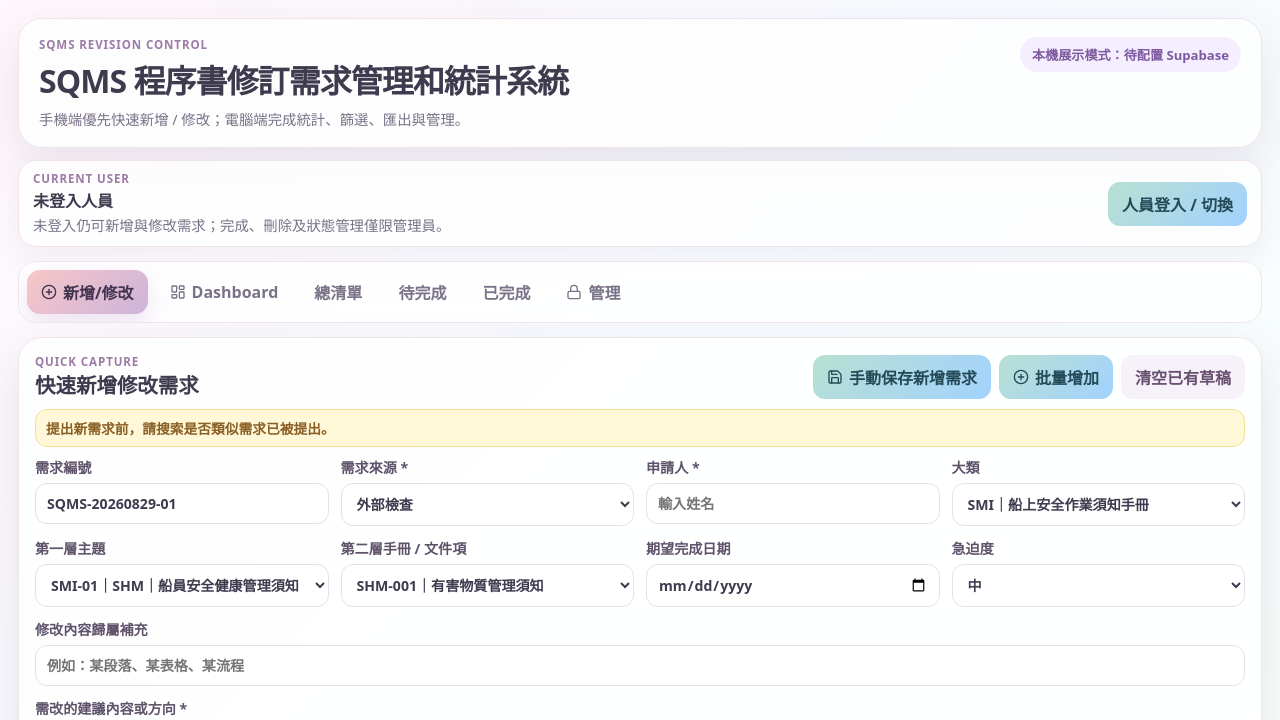
Scenario: request manual save flow › cascades category and topic changes into the first matching manual item
The image size is (1280, 720).
Expected: the dropdown labelled "第二層手冊 / 文件項" shows "SHM-001｜有害物質管理須知", x1=340 y1=564 x2=634 y2=607
Select "SMI-02｜SOI｜安全操作落實須知" in the dropdown labelled "第一層主題" at (182, 586), box x1=35 y1=564 x2=328 y2=607
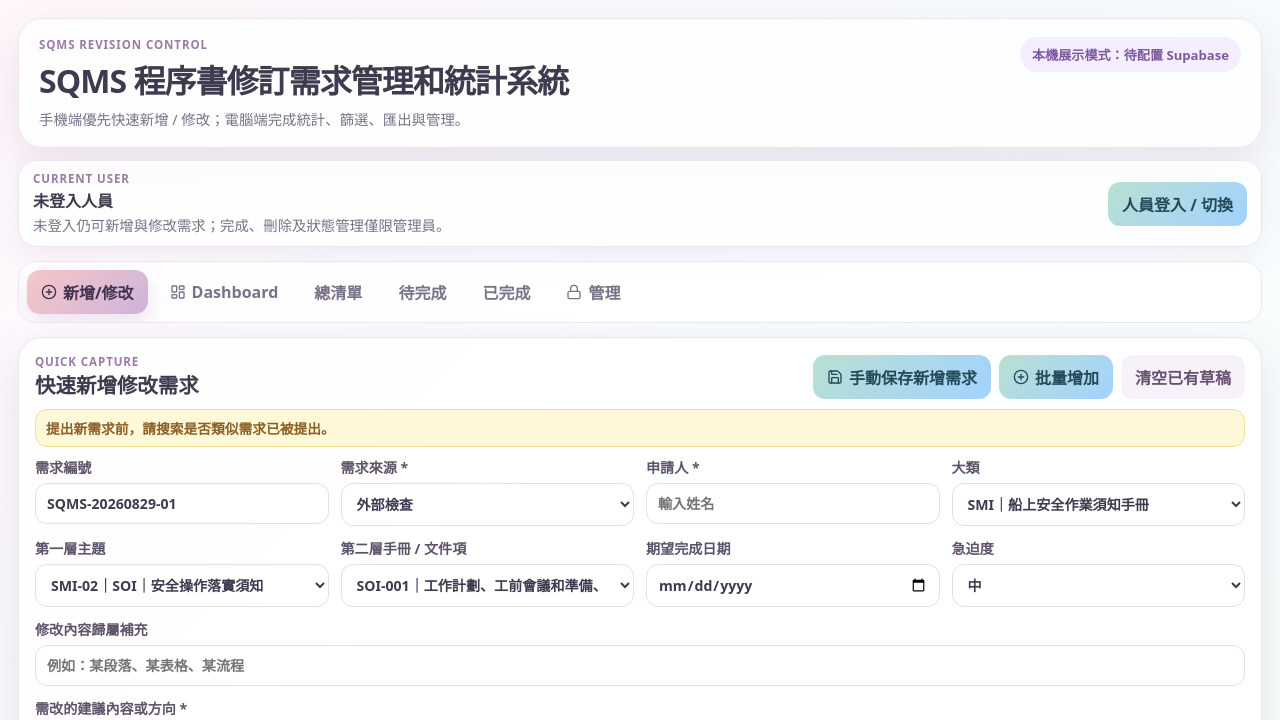
Result: the dropdown labelled "第二層手冊 / 文件項" shows "SOI-001｜工作計劃、工前會議和準備、工作監控管理須知" at x1=340 y1=564 x2=634 y2=607
Select "SMP｜安全管理程序手冊" in the dropdown labelled "大類" at (1098, 504), box x1=952 y1=483 x2=1245 y2=526
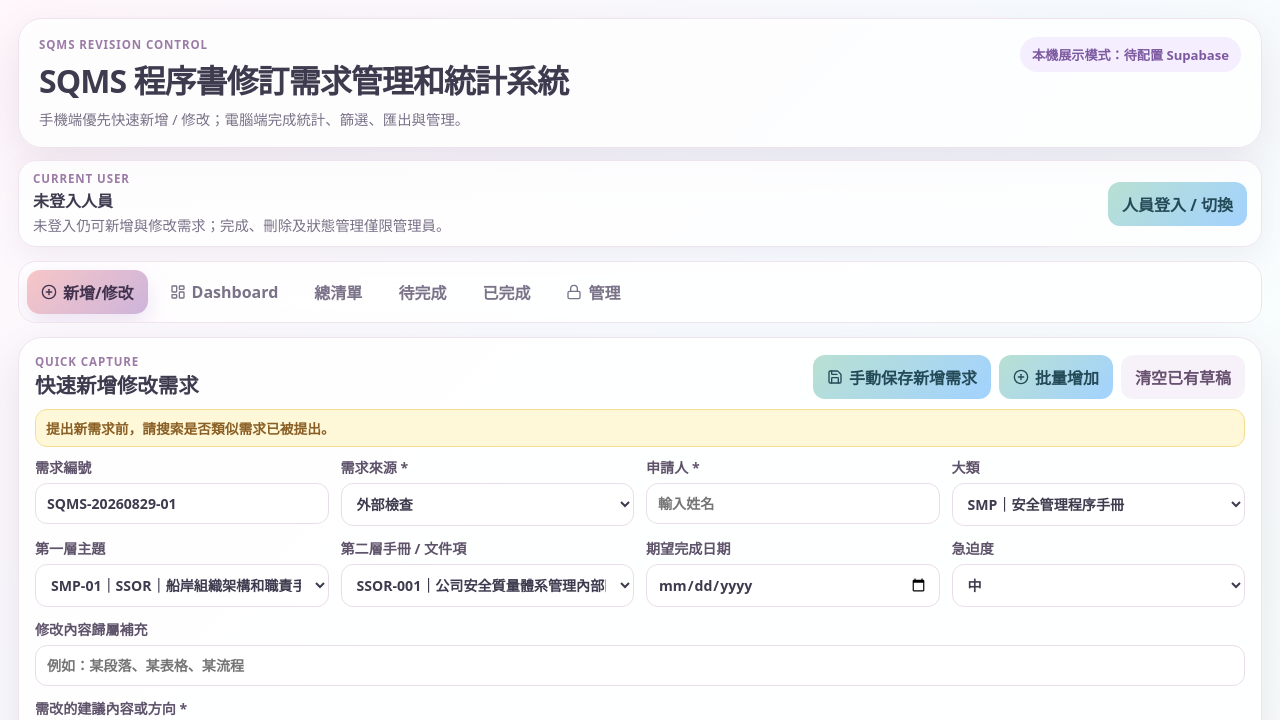
Result: the dropdown labelled "第二層手冊 / 文件項" shows "SSOR-001｜公司安全質量體系管理內部門架構和要求" at x1=340 y1=564 x2=634 y2=607
Select "SMP-13｜SMP｜國際標准化組織管理" in the dropdown labelled "第一層主題" at (182, 586), box x1=35 y1=564 x2=328 y2=607
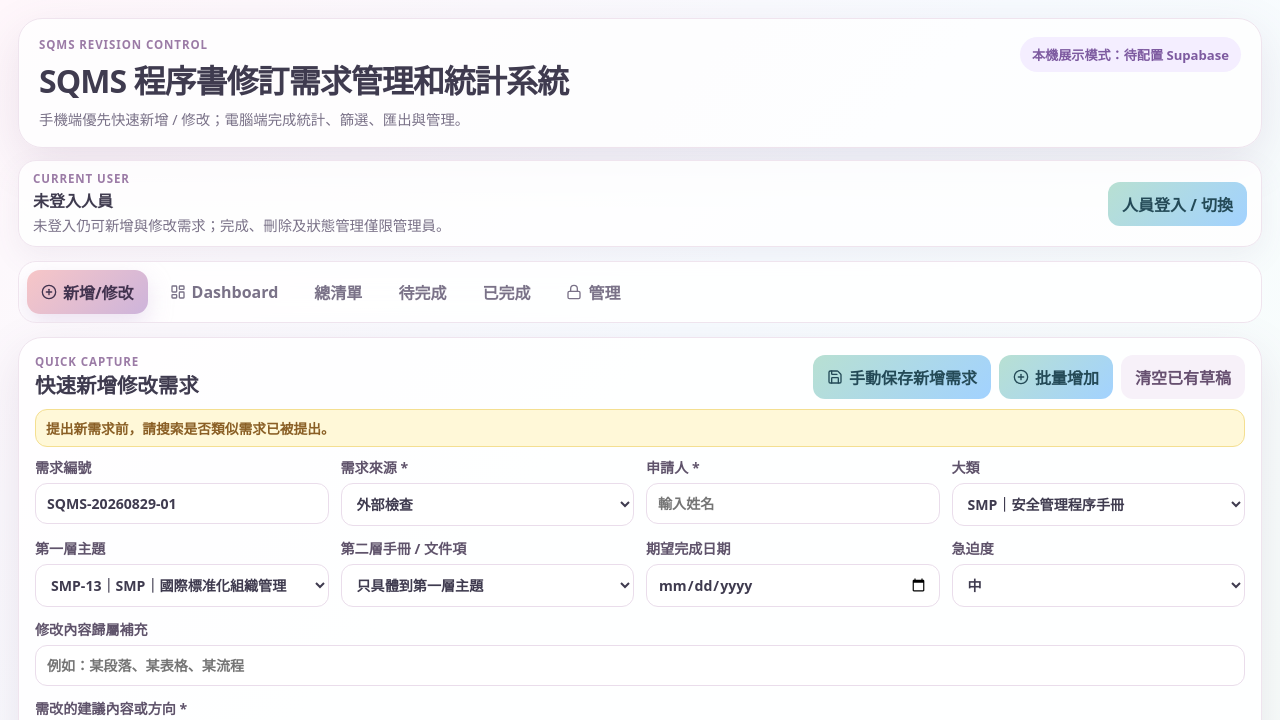
Result: the dropdown labelled "第二層手冊 / 文件項" shows "只具體到第一層主題" at x1=340 y1=564 x2=634 y2=607
Click the button "批量增加" at (1056, 376), box x1=999 y1=354 x2=1113 y2=398
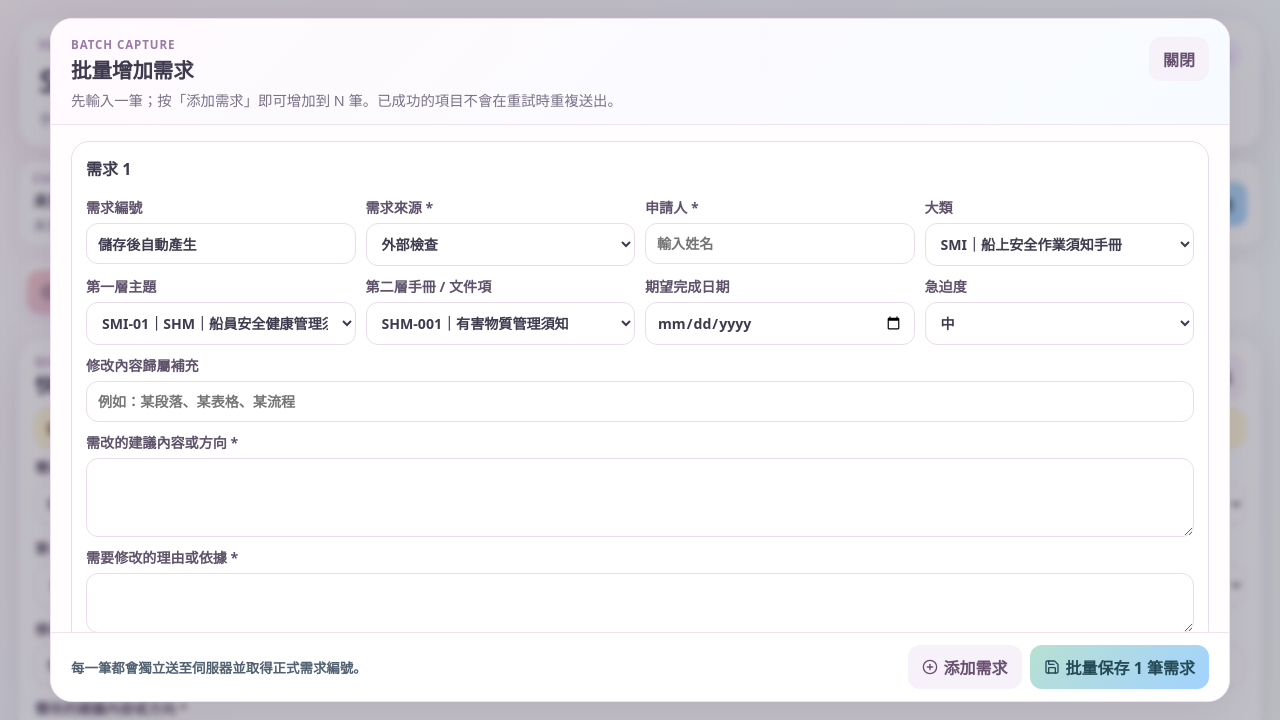
Result: the dropdown labelled "第二層手冊 / 文件項" shows "SHM-001｜有害物質管理須知" at x1=366 y1=302 x2=635 y2=345
Select "SMI-02｜SOI｜安全操作落實須知" in the dropdown labelled "第一層主題" at (221, 324), box x1=86 y1=302 x2=356 y2=345
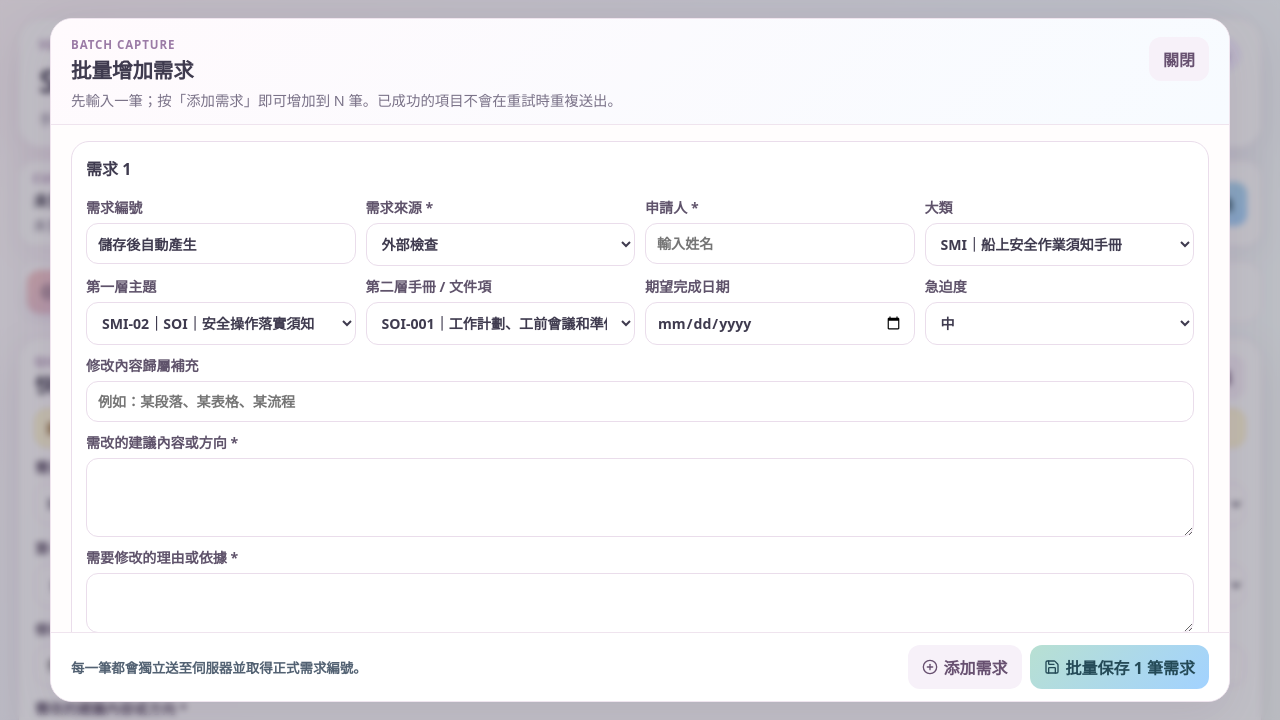
Result: the dropdown labelled "第二層手冊 / 文件項" shows "SOI-001｜工作計劃、工前會議和準備、工作監控管理須知" at x1=366 y1=302 x2=635 y2=345
Select "SMP｜安全管理程序手冊" in the dropdown labelled "大類" at (1059, 244), box x1=924 y1=223 x2=1194 y2=266
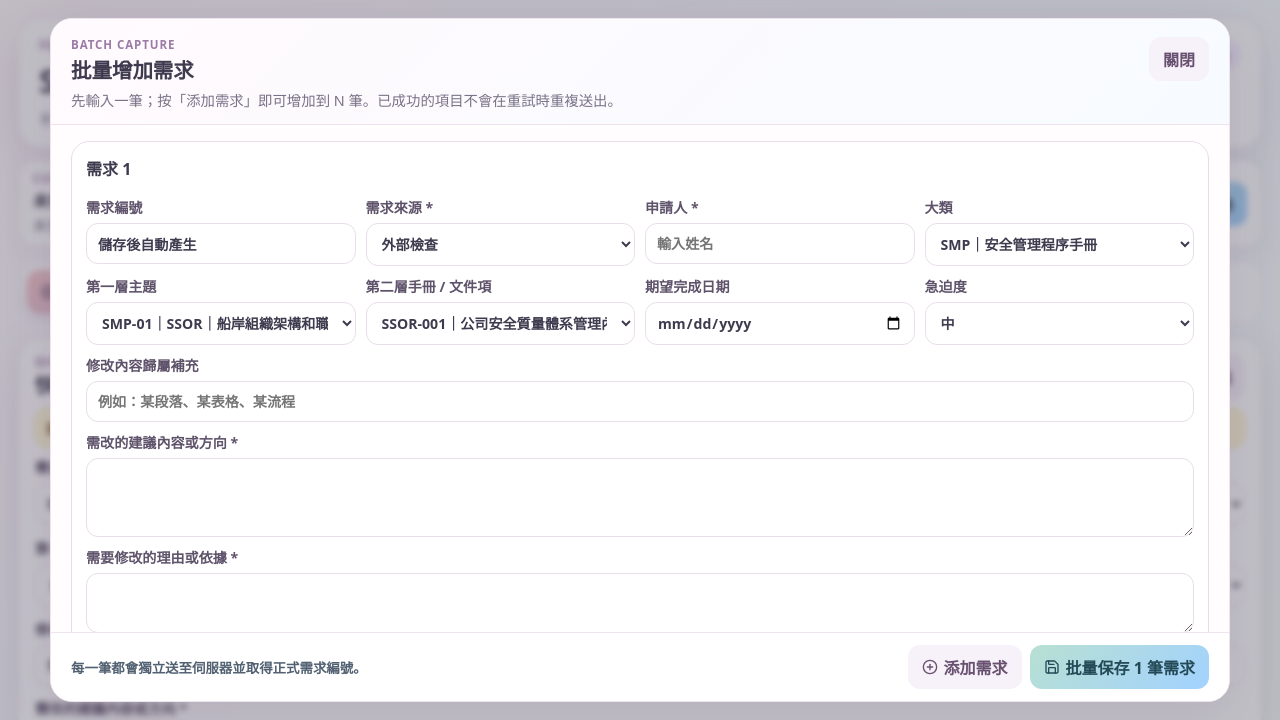
Result: the dropdown labelled "第二層手冊 / 文件項" shows "SSOR-001｜公司安全質量體系管理內部門架構和要求" at x1=366 y1=302 x2=635 y2=345
